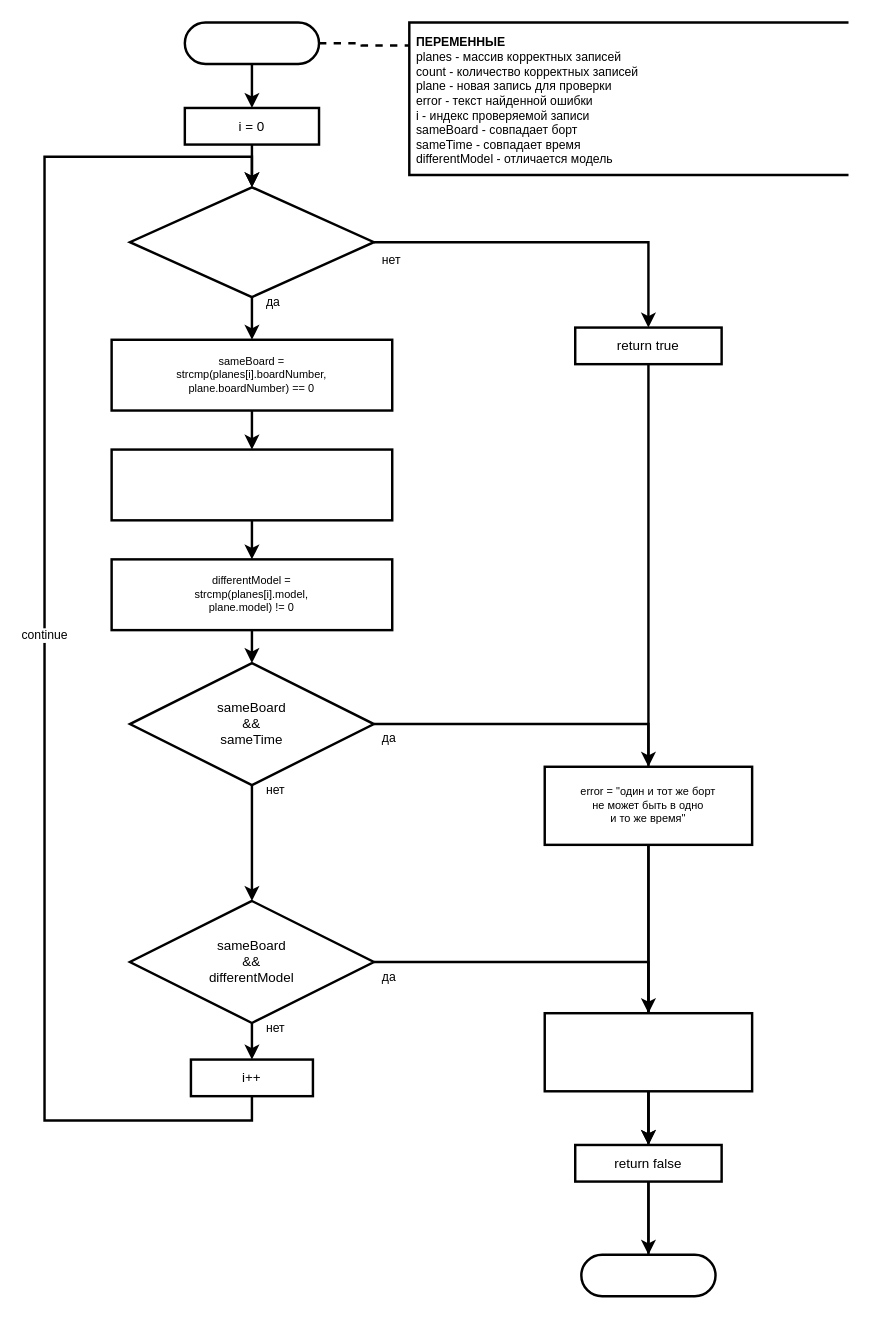
Some shapes in this 870 by 1318 pixel diagram are drawn without their labels. Each missing label, with the centre of its shape:
error = "один и тот же борт не может иметь разные модели": point 648,1051
i < count: point 251,241
sameTime = planes[i].landingMinutes == plane.landingMinutes: point 251,484
конец: point 648,1275
начало: point 251,43
